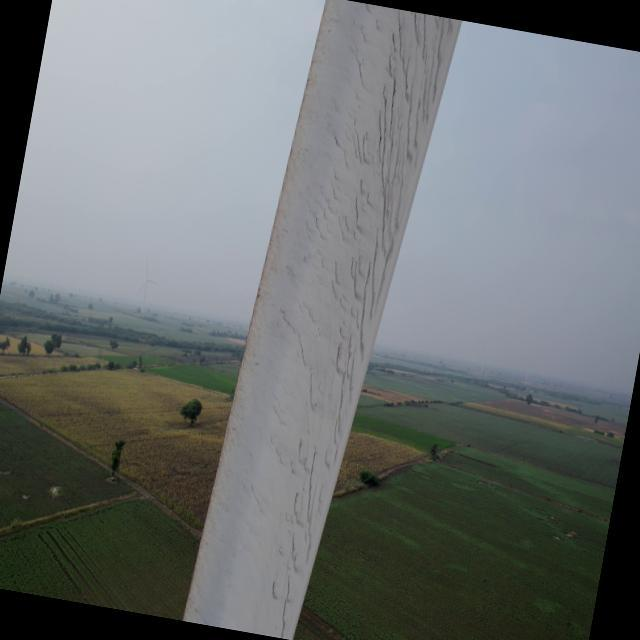Dirt: (263, 0, 464, 640)
